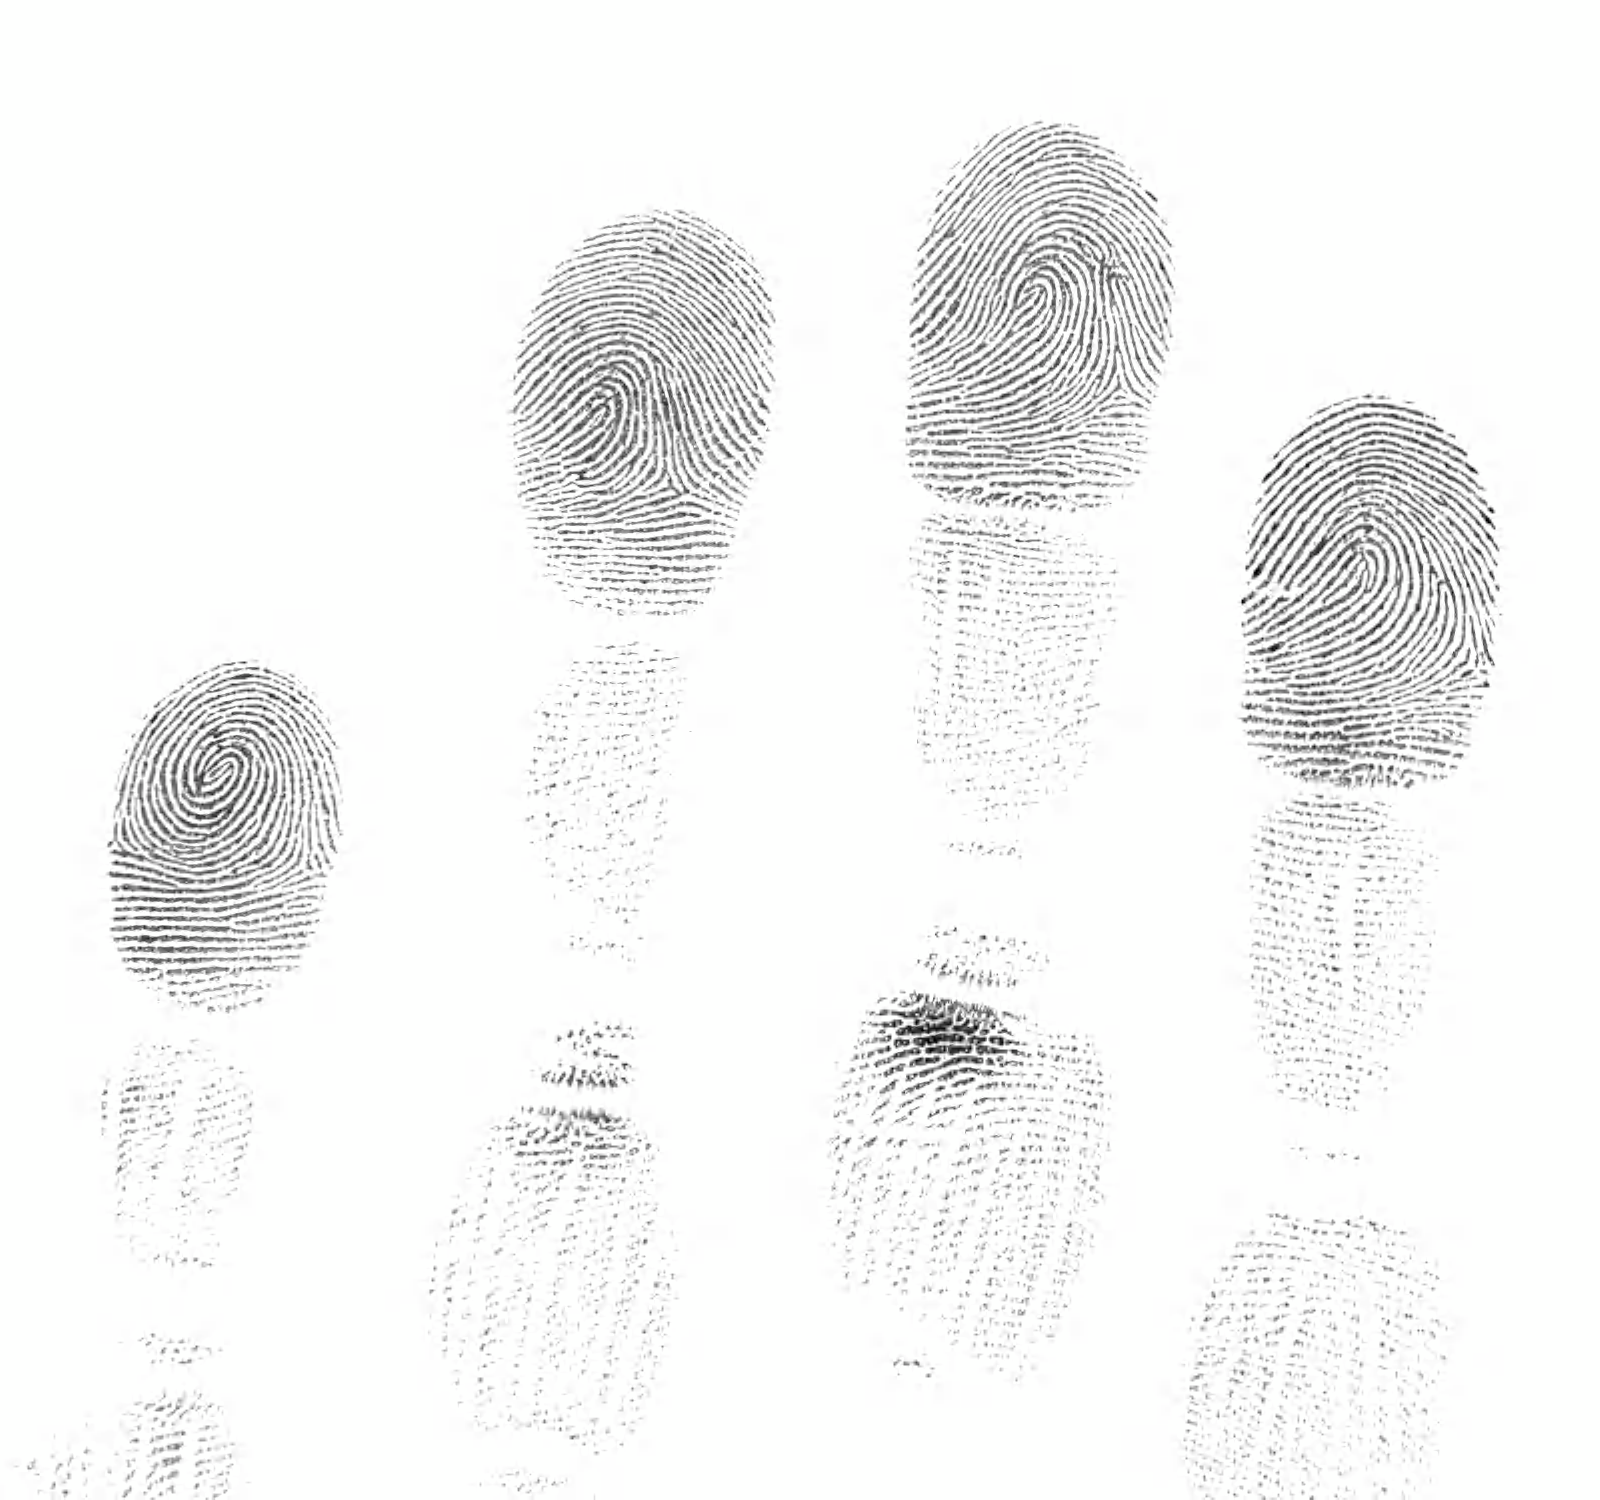distal: (491, 195, 806, 639), (888, 96, 1208, 524), (1212, 382, 1511, 789), (99, 647, 375, 1023)
proximal: (878, 500, 1164, 959), (491, 610, 750, 1042), (1222, 771, 1479, 1170), (58, 1016, 293, 1342)
